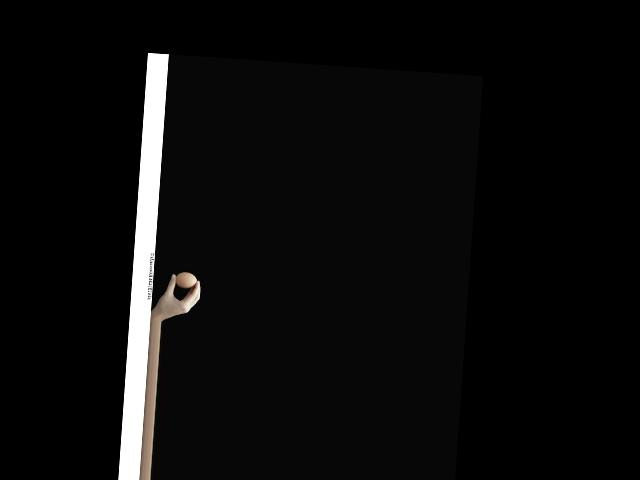egg: (175, 271, 197, 288)
